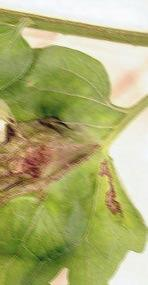Tomato leaf late blight: (0, 122, 145, 285)
